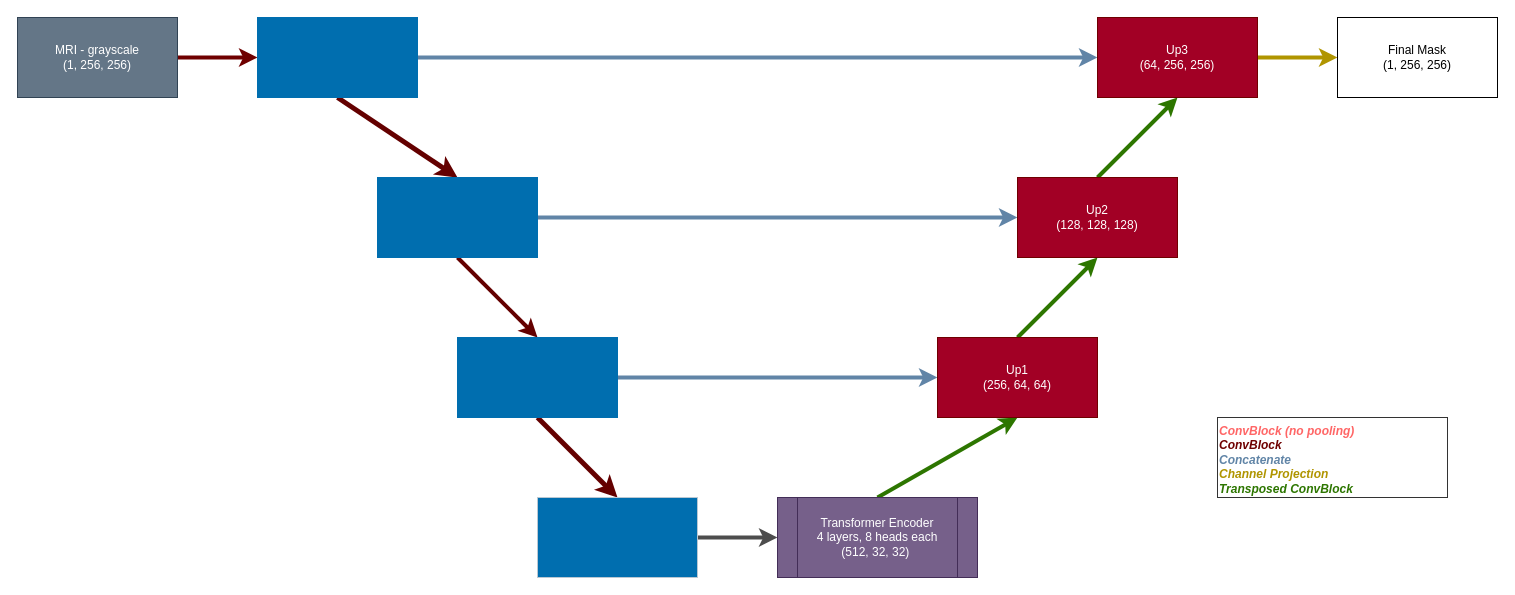
The diagram is 1515 pixels wide and 595 high, and some of its shapes have lost their labels. Each missing label, with the box of its shape:
Enc1 (64, 256, 256): (256, 16, 418, 98)
Enc2 (128, 128, 128): (376, 176, 538, 258)
Enc3 (256, 64, 64): (456, 336, 618, 418)
Enc4 (512, 32, 32): (536, 496, 698, 578)
